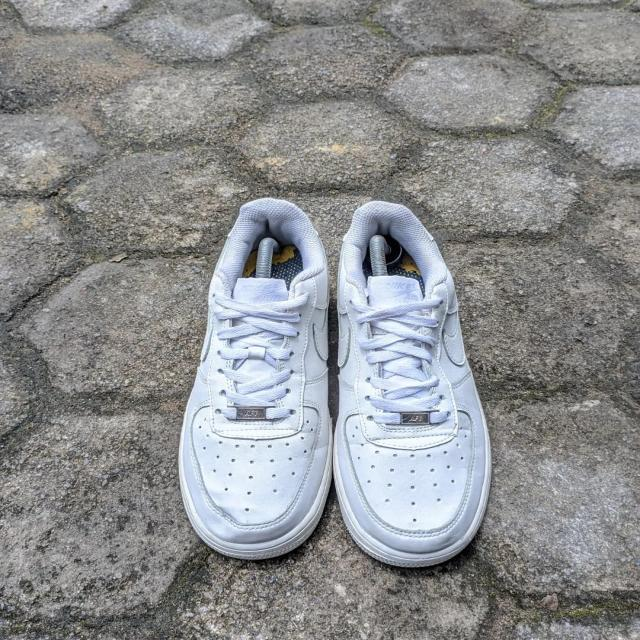nike fake air force: (330, 202, 497, 574), (178, 200, 339, 562)
